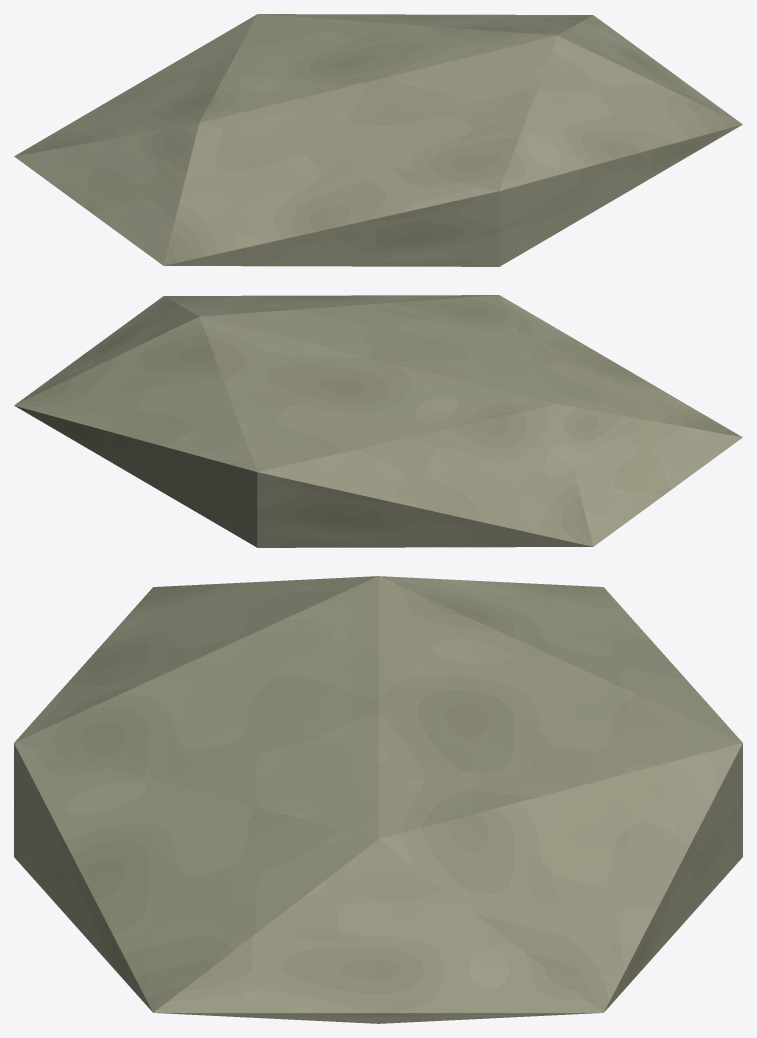
The model's file is pedra-laje-v02.gltf.
3 renders of one model, top to bottom at view 1: azimuth 30°, elevation 25°; view 2: azimuth 150°, elevation 25°; view 3: azimuth 270°, elevation 25°, orthographic. The views are drawn at different scales.
Parts seen in each view (by area): view 1: forma; view 2: forma; view 3: forma.
Part boxes in pixels (left/top/right/bottom): forma: left=14, top=14, right=742, bottom=266; forma: left=14, top=295, right=742, bottom=547; forma: left=14, top=576, right=742, bottom=1023.
Size of the model in its own units: 1.6 by 0.3232 by 1.16.
1 material, 1 textured.
